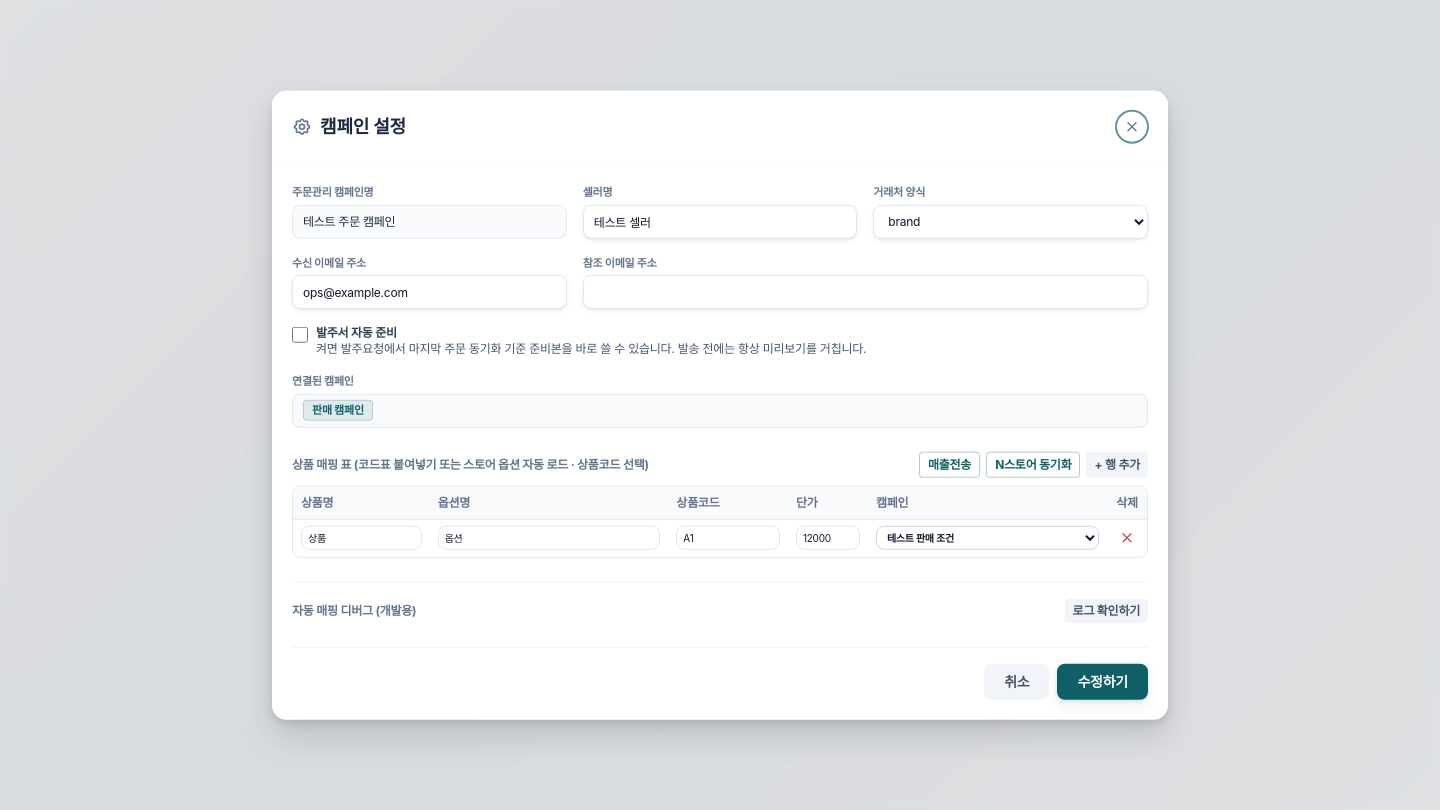
Test: CampaignEditModal sales push › 매칭 0건 판매 조건이 있으면 경고와 함께 제외 안내를 표시한다
Click the button "매출전송".
click(950, 464)  # box top-left (919, 451), bottom-right (980, 477)
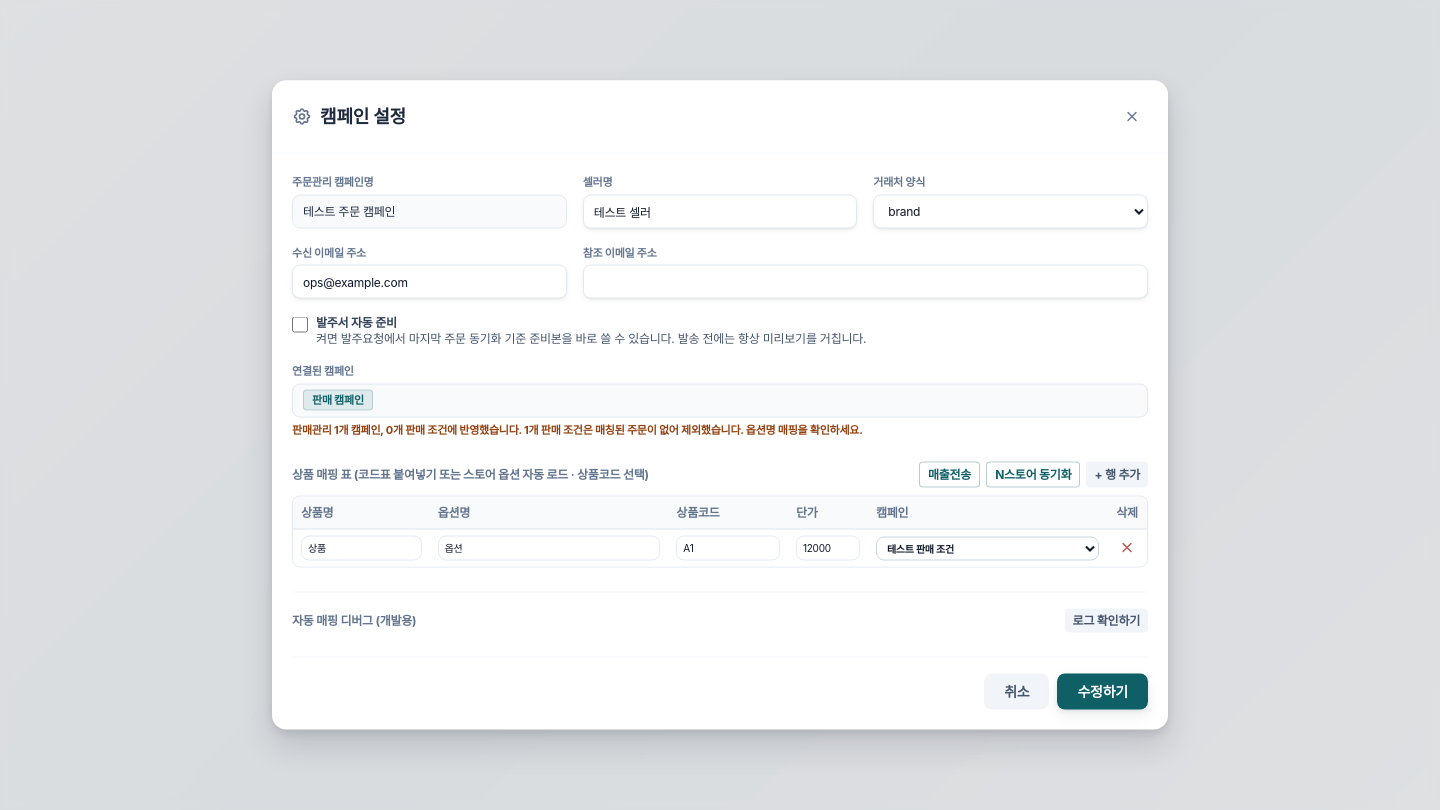
expect the text "1개 판매 조건은 매칭된 주문이 없어 제외" is shown: met, box top-left (292, 422), bottom-right (863, 436)
